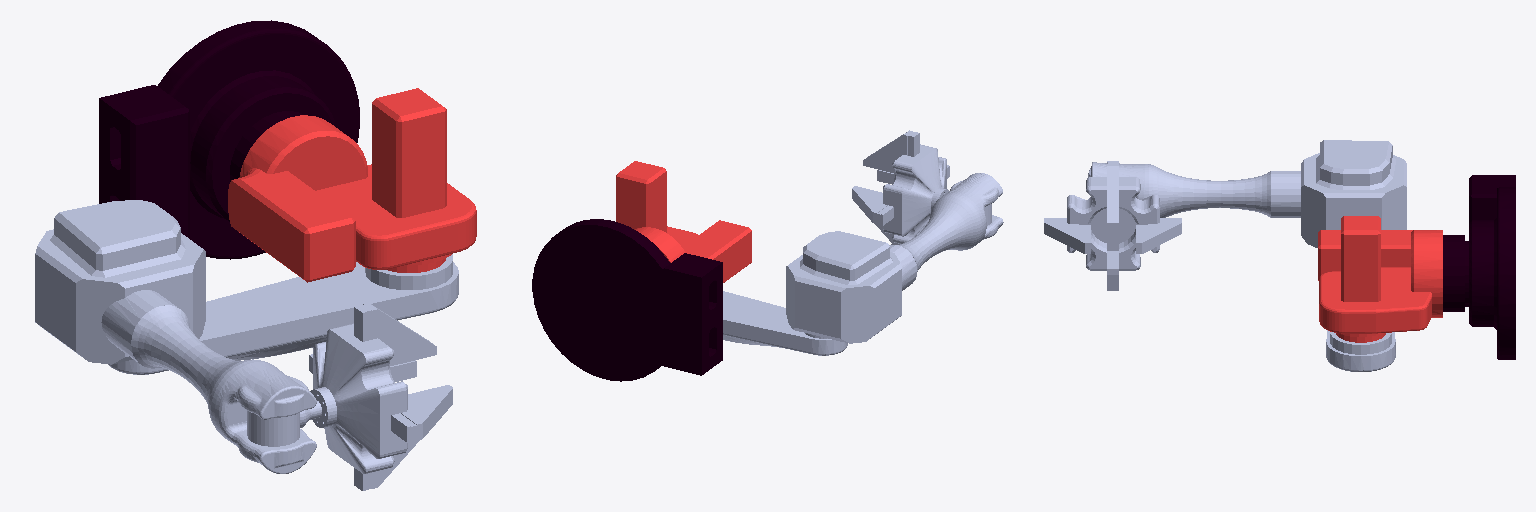
The robot description file, URDF, robot "my_robot_urdf":
<?xml version="1.0" encoding="utf-8"?>
<!-- This URDF was automatically created by SolidWorks to URDF Exporter! Originally created by [author] ([email redacted]) 
     Commit Version: 1.6.0-4-g7f85cfe  Build Version: 1.6.7995.38578
     For more information, please see http://wiki.ros.org/sw_urdf_exporter -->
<robot
  name="my_robot_urdf">
  <link
    name="base_link">
    <inertial>
      <origin
        xyz="-0.05930869488714 0 0.0776653157730273"
        rpy="0 0 0" />
      <mass
        value="33.891578448587" />
      <inertia
        ixx="0.562042604088221"
        ixy="0"
        ixz="0.00403961419511077"
        iyy="0.970694427805805"
        iyz="0"
        izz="1.29713482615658" />
    </inertial>
    <visual>
      <origin
        xyz="0 0 0"
        rpy="0 0 0" />
      <geometry>
        <mesh
          filename="package://my_robot_urdf/meshes/base_link.STL" />
      </geometry>
      <material
        name="">
        <color
          rgba="0.152941176470588 0 0.117647058823529 1" />
      </material>
    </visual>
    <collision>
      <origin
        xyz="0 0 0"
        rpy="0 0 0" />
      <geometry>
        <mesh
          filename="package://my_robot_urdf/meshes/base_link.STL" />
      </geometry>
    </collision>
  </link>
  <link
    name="arm_link_1">
    <inertial>
      <origin
        xyz="0.0416589398280025 0 0.19712083516126"
        rpy="0 0 0" />
      <mass
        value="26.7048266497369" />
      <inertia
        ixx="0.495499615132855"
        ixy="-0.0102760504758245"
        ixz="-0.0600935399650257"
        iyy="0.766768677077223"
        iyz="-0.0115358881770517"
        izz="0.604967931690783" />
    </inertial>
    <visual>
      <origin
        xyz="0 0 0"
        rpy="0 0 0" />
      <geometry>
        <mesh
          filename="package://my_robot_urdf/meshes/arm_link_1.STL" />
      </geometry>
      <material
        name="">
        <color
          rgba="1 0.309803921568627 0.309803921568627 1" />
      </material>
    </visual>
    <collision>
      <origin
        xyz="0 0 0"
        rpy="0 0 0" />
      <geometry>
        <mesh
          filename="package://my_robot_urdf/meshes/arm_link_1.STL" />
      </geometry>
    </collision>
  </link>
  <joint
    name="arm_joint_1"
    type="revolute">
    <origin
      xyz="0 -0.234 0"
      rpy="1.5708 0 0" />
    <parent
      link="base_link" />
    <child
      link="arm_link_1" />
    <axis
      xyz="0 0 1" />
    <limit
      lower="-3.1416"
      upper="3.1416"
      effort="0"
      velocity="0" />
  </joint>
  <link
    name="arm_link_2">
    <inertial>
      <origin
        xyz="0.000258724363916829 0.0707589768311214 -0.290203503422467"
        rpy="0 0 0" />
      <mass
        value="14.3270690802686" />
      <inertia
        ixx="0.848873613210201"
        ixy="-0.000175299197197552"
        ixz="4.64678003354567E-05"
        iyy="0.87480377814942"
        iyz="0.0137202067906075"
        izz="0.0504590836189902" />
    </inertial>
    <visual>
      <origin
        xyz="0 0 0"
        rpy="0 0 0" />
      <geometry>
        <mesh
          filename="package://my_robot_urdf/meshes/arm_link_2.STL" />
      </geometry>
      <material
        name="">
        <color
          rgba="0.792156862745098 0.819607843137255 0.933333333333333 1" />
      </material>
    </visual>
    <collision>
      <origin
        xyz="0 0 0"
        rpy="0 0 0" />
      <geometry>
        <mesh
          filename="package://my_robot_urdf/meshes/arm_link_2.STL" />
      </geometry>
    </collision>
  </link>
  <joint
    name="arm_joint_2"
    type="revolute">
    <origin
      xyz="0.15 -0.1375 0.265"
      rpy="0 -1.5708 3.1416" />
    <parent
      link="arm_link_1" />
    <child
      link="arm_link_2" />
    <axis
      xyz="0 1 0" />
    <limit
      lower="-3.1416"
      upper="3.1416"
      effort="0"
      velocity="0" />
  </joint>
  <link
    name="arm_link_3">
    <inertial>
      <origin
        xyz="0.0362614171159604 -0.123132908024542 -0.0664637155357432"
        rpy="0 0 0" />
      <mass
        value="27.1450417424437" />
      <inertia
        ixx="0.344868303293538"
        ixy="-0.00338242702861573"
        ixz="0.0211648441841247"
        iyy="0.473964503565446"
        iyz="-0.00675660536457725"
        izz="0.420912669748457" />
    </inertial>
    <visual>
      <origin
        xyz="0 0 0"
        rpy="0 0 0" />
      <geometry>
        <mesh
          filename="package://my_robot_urdf/meshes/arm_link_3.STL" />
      </geometry>
      <material
        name="">
        <color
          rgba="0.792156862745098 0.819607843137255 0.933333333333333 1" />
      </material>
    </visual>
    <collision>
      <origin
        xyz="0 0 0"
        rpy="0 0 0" />
      <geometry>
        <mesh
          filename="package://my_robot_urdf/meshes/arm_link_3.STL" />
      </geometry>
    </collision>
  </link>
  <joint
    name="arm_joint_3"
    type="continuous">
    <origin
      xyz="0 0 -0.7"
      rpy="0 0 0" />
    <parent
      link="arm_link_2" />
    <child
      link="arm_link_3" />
    <axis
      xyz="0 1 0" />
    <limit
      lower="-3.1416"
      upper="3.1416"
      effort="0"
      velocity="0" />
  </joint>
  <link
    name="arm_link_4">
    <inertial>
      <origin
        xyz="0.338893744219759 0 0"
        rpy="0 0 0" />
      <mass
        value="7.96664349020365" />
      <inertia
        ixx="0.0300827685994122"
        ixy="-3.48765154258439E-07"
        ixz="-4.33220175841054E-07"
        iyy="0.215976713293833"
        iyz="0.000166072999280485"
        izz="0.223048843574734" />
    </inertial>
    <visual>
      <origin
        xyz="0 0 0"
        rpy="0 0 0" />
      <geometry>
        <mesh
          filename="package://my_robot_urdf/meshes/arm_link_4.STL" />
      </geometry>
      <material
        name="">
        <color
          rgba="0.792156862745098 0.819607843137255 0.933333333333333 1" />
      </material>
    </visual>
    <collision>
      <origin
        xyz="0 0 0"
        rpy="0 0 0" />
      <geometry>
        <mesh
          filename="package://my_robot_urdf/meshes/arm_link_4.STL" />
      </geometry>
    </collision>
  </link>
  <joint
    name="arm_joint_4"
    type="revolute">
    <origin
      xyz="0.29 -0.11 -0.115"
      rpy="3.1416 0 0" />
    <parent
      link="arm_link_3" />
    <child
      link="arm_link_4" />
    <axis
      xyz="1 0 0" />
    <limit
      lower="-3.1416"
      upper="3.1416"
      effort="0"
      velocity="0" />
  </joint>
  <link
    name="arm_link_5">
    <inertial>
      <origin
        xyz="-0.00224018993807718 0 0"
        rpy="0 0 0" />
      <mass
        value="0.961734748124672" />
      <inertia
        ixx="0.00154678090917305"
        ixy="0"
        ixz="0"
        iyy="0.00165625576362529"
        iyz="0"
        izz="0.00143991315628678" />
    </inertial>
    <visual>
      <origin
        xyz="0 0 0"
        rpy="0 0 0" />
      <geometry>
        <mesh
          filename="package://my_robot_urdf/meshes/arm_link_5.STL" />
      </geometry>
      <material
        name="">
        <color
          rgba="0.792156862745098 0.819607843137255 0.933333333333333 1" />
      </material>
    </visual>
    <collision>
      <origin
        xyz="0 0 0"
        rpy="0 0 0" />
      <geometry>
        <mesh
          filename="package://my_robot_urdf/meshes/arm_link_5.STL" />
      </geometry>
    </collision>
  </link>
  <joint
    name="arm_joint_5"
    type="revolute">
    <origin
      xyz="0.51 0 0"
      rpy="3.1416 1.5708 3.1416" />
    <parent
      link="arm_link_4" />
    <child
      link="arm_link_5" />
    <axis
      xyz="0 1 0" />
    <limit
      lower="-4.7124"
      upper="1.5708"
      effort="0"
      velocity="0" />
  </joint>
  <link
    name="arm_link_6">
    <inertial>
      <origin
        xyz="0 0 0.052725963344278"
        rpy="0 0 0" />
      <mass
        value="0.288779624800079" />
      <inertia
        ixx="0.000386925186804297"
        ixy="0"
        ixz="0"
        iyy="0.000386925215104185"
        iyz="0"
        izz="0.000212753902483572" />
    </inertial>
    <visual>
      <origin
        xyz="0 0 0"
        rpy="0 0 0" />
      <geometry>
        <mesh
          filename="package://my_robot_urdf/meshes/arm_link_6.STL" />
      </geometry>
      <material
        name="">
        <color
          rgba="0.792156862745098 0.819607843137255 0.933333333333333 1" />
      </material>
    </visual>
    <collision>
      <origin
        xyz="0 0 0"
        rpy="0 0 0" />
      <geometry>
        <mesh
          filename="package://my_robot_urdf/meshes/arm_link_6.STL" />
      </geometry>
    </collision>
  </link>
  <joint
    name="arm_joint_6"
    type="revolute">
    <origin
      xyz="0.045 0 0"
      rpy="0 1.5708 0" />
    <parent
      link="arm_link_5" />
    <child
      link="arm_link_6" />
    <axis
      xyz="0 0 1" />
    <limit
      lower="-3.1416"
      upper="3.1416"
      effort="0"
      velocity="0" />
  </joint>
  <link
    name="eef_link">
    <inertial>
      <origin
        xyz="0 0 -0.0188761945416884"
        rpy="0 0 0" />
      <mass
        value="5.46782575492837" />
      <inertia
        ixx="0.0365076087226209"
        ixy="0"
        ixz="0"
        iyy="0.0365076302641158"
        iyz="0"
        izz="0.0627860547898383" />
    </inertial>
    <visual>
      <origin
        xyz="0 0 0"
        rpy="0 0 0" />
      <geometry>
        <mesh
          filename="package://my_robot_urdf/meshes/eef_link.STL" />
      </geometry>
      <material
        name="">
        <color
          rgba="0.792156862745098 0.819607843137255 0.933333333333333 1" />
      </material>
    </visual>
    <collision>
      <origin
        xyz="0 0 0"
        rpy="0 0 0" />
      <geometry>
        <mesh
          filename="package://my_robot_urdf/meshes/eef_link.STL" />
      </geometry>
    </collision>
  </link>
  <joint
    name="eef_link_fixed"
    type="fixed">
    <origin
      xyz="0 0 0.145"
      rpy="3.1416 0 3.1416" />
    <parent
      link="arm_link_6" />
    <child
      link="eef_link" />
    <axis
      xyz="0 0 0" />
  </joint>
  <link
    name="eef_jaw_1">
    <inertial>
      <origin
        xyz="0.0869730343447335 -0.02 0.0799489474646907"
        rpy="0 0 0" />
      <mass
        value="0.672155087926634" />
      <inertia
        ixx="0.00170709281582639"
        ixy="0"
        ixz="-0.000828153130362926"
        iyy="0.00264620439405273"
        iyz="0"
        izz="0.00111534333500677" />
    </inertial>
    <visual>
      <origin
        xyz="0 0 0"
        rpy="0 0 0" />
      <geometry>
        <mesh
          filename="package://my_robot_urdf/meshes/eef_jaw_1.STL" />
      </geometry>
      <material
        name="">
        <color
          rgba="0.792156862745098 0.819607843137255 0.933333333333333 1" />
      </material>
    </visual>
    <collision>
      <origin
        xyz="0 0 0"
        rpy="0 0 0" />
      <geometry>
        <mesh
          filename="package://my_robot_urdf/meshes/eef_jaw_1.STL" />
      </geometry>
    </collision>
  </link>
  <joint
    name="eef_jaw_1_joint_fixed"
    type="fixed">
    <origin
      xyz="-0.22228 -0.02 -0.03"
      rpy="3.1416 0 0" />
    <parent
      link="eef_link" />
    <child
      link="eef_jaw_1" />
    <axis
      xyz="0 0 0" />
  </joint>
  <link
    name="eef_jaw_2">
    <inertial>
      <origin
        xyz="0.0869730343447341 0.02 -0.0799489474646903"
        rpy="0 0 0" />
      <mass
        value="0.672155087926635" />
      <inertia
        ixx="0.00170709281582639"
        ixy="0"
        ixz="0.000828153130362932"
        iyy="0.00264620439405273"
        iyz="0"
        izz="0.00111534333500678" />
    </inertial>
    <visual>
      <origin
        xyz="0 0 0"
        rpy="0 0 0" />
      <geometry>
        <mesh
          filename="package://my_robot_urdf/meshes/eef_jaw_2.STL" />
      </geometry>
      <material
        name="">
        <color
          rgba="0.792156862745098 0.819607843137255 0.933333333333333 1" />
      </material>
    </visual>
    <collision>
      <origin
        xyz="0 0 0"
        rpy="0 0 0" />
      <geometry>
        <mesh
          filename="package://my_robot_urdf/meshes/eef_jaw_2.STL" />
      </geometry>
    </collision>
  </link>
  <joint
    name="eef_jaw_2_joint_fixed"
    type="fixed">
    <origin
      xyz="0.22228 0.02 -0.03"
      rpy="0 0 3.1416" />
    <parent
      link="eef_link" />
    <child
      link="eef_jaw_2" />
    <axis
      xyz="0 0 0" />
  </joint>
  <link
    name="eef_jaw_3">
    <inertial>
      <origin
        xyz="0.0869730343447339 0.0199999999999998 -0.0799489474646904"
        rpy="0 0 0" />
      <mass
        value="0.672155087926635" />
      <inertia
        ixx="0.00170709281582639"
        ixy="1.22228661725192E-18"
        ixz="0.00082815313036293"
        iyy="0.00264620439405273"
        iyz="-2.65326222347392E-18"
        izz="0.00111534333500678" />
    </inertial>
    <visual>
      <origin
        xyz="0 0 0"
        rpy="0 0 0" />
      <geometry>
        <mesh
          filename="package://my_robot_urdf/meshes/eef_jaw_3.STL" />
      </geometry>
      <material
        name="">
        <color
          rgba="0.792156862745098 0.819607843137255 0.933333333333333 1" />
      </material>
    </visual>
    <collision>
      <origin
        xyz="0 0 0"
        rpy="0 0 0" />
      <geometry>
        <mesh
          filename="package://my_robot_urdf/meshes/eef_jaw_3.STL" />
      </geometry>
    </collision>
  </link>
  <joint
    name="eef_jaw_3_joint_fixed"
    type="fixed">
    <origin
      xyz="0.02 -0.22228 -0.03"
      rpy="0 0 1.5708" />
    <parent
      link="eef_link" />
    <child
      link="eef_jaw_3" />
    <axis
      xyz="0 0 0" />
  </joint>
  <link
    name="eef_jaw_4">
    <inertial>
      <origin
        xyz="0.0869730343447339 0.0200000000000002 -0.0799489474646904"
        rpy="0 0 0" />
      <mass
        value="0.672155087926635" />
      <inertia
        ixx="0.00170709281582639"
        ixy="-7.19987309785431E-19"
        ixz="0.00082815313036293"
        iyy="0.00264620439405273"
        iyz="3.18786093986215E-18"
        izz="0.00111534333500678" />
    </inertial>
    <visual>
      <origin
        xyz="0 0 0"
        rpy="0 0 0" />
      <geometry>
        <mesh
          filename="package://my_robot_urdf/meshes/eef_jaw_4.STL" />
      </geometry>
      <material
        name="">
        <color
          rgba="0.792156862745098 0.819607843137255 0.933333333333333 1" />
      </material>
    </visual>
    <collision>
      <origin
        xyz="0 0 0"
        rpy="0 0 0" />
      <geometry>
        <mesh
          filename="package://my_robot_urdf/meshes/eef_jaw_4.STL" />
      </geometry>
    </collision>
  </link>
  <joint
    name="eef_jaw_4_joint_fixed"
    type="fixed">
    <origin
      xyz="-0.0200000000000002 0.222284161474006 -0.0299999999999999"
      rpy="0 0 -1.5707963267949" />
    <parent
      link="eef_link" />
    <child
      link="eef_jaw_4" />
    <axis
      xyz="0 0 0" />
  </joint>
</robot>

--- What the picture shows (computed from the rendered views, not written in the file) ---
Views: 3 orthographic renders of the robot side by side, from view 1: azimuth 30°, elevation 25°; view 2: azimuth 150°, elevation 25°; view 3: azimuth 270°, elevation 25°.
Robot: my_robot_urdf — 12 links, 11 joints (5 revolute, 1 continuous, 5 fixed); root link base_link; default pose: all joints at 0.
Links seen in each view (by area): view 1: base_link, arm_link_1, arm_link_3, arm_link_2, arm_link_4, eef_link, eef_jaw_4, eef_jaw_2, arm_link_5, arm_link_6, eef_jaw_3; view 2: base_link, arm_link_3, arm_link_1, arm_link_4, eef_link, arm_link_2, eef_jaw_4, eef_jaw_1; view 3: arm_link_1, arm_link_3, base_link, eef_link, arm_link_4, arm_link_2, eef_jaw_2, eef_jaw_1, eef_jaw_4.
Link boxes in pixels (x1,y1,x2,y2): base_link: (99,20,359,259); arm_link_1: (228,88,476,282); arm_link_3: (35,200,205,368); arm_link_2: (108,254,458,374); arm_link_4: (131,305,316,473); eef_link: (313,323,407,473); eef_jaw_4: (354,303,436,365); eef_jaw_2: (391,385,452,442); arm_link_5: (247,411,299,446); arm_link_6: (300,387,336,427); eef_jaw_3: (354,440,419,490); base_link: (532,219,722,381); arm_link_3: (786,231,917,343); arm_link_1: (616,161,751,282); arm_link_4: (891,173,1003,283); eef_link: (883,144,946,243); arm_link_2: (723,291,847,355); eef_jaw_4: (863,130,919,173); eef_jaw_1: (852,186,893,225); arm_link_1: (1318,216,1442,342); arm_link_3: (1271,140,1406,247); base_link: (1443,175,1515,359); eef_link: (1067,177,1159,270); arm_link_4: (1088,162,1270,217); arm_link_2: (1326,330,1395,371); eef_jaw_2: (1044,218,1090,253); eef_jaw_1: (1136,218,1181,253); eef_jaw_4: (1107,161,1118,227).
Size in the robot's own frame: 1.07 by 1.52 by 0.5597 metres.
12 mesh visuals loaded from 12 distinct referenced files (12 binary STL).